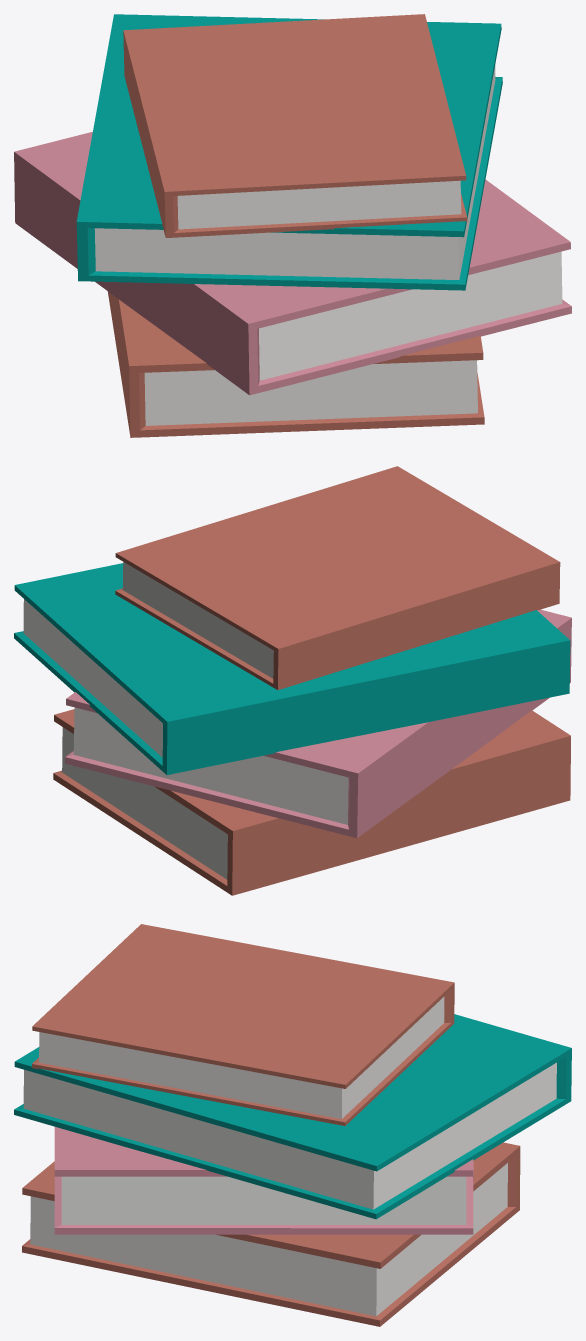
The model's file is Books.fbx.
3 views of the same model, one above another, from view 1: azimuth 30°, elevation 25°; view 2: azimuth 150°, elevation 25°; view 3: azimuth 270°, elevation 25° (orthographic). The views are drawn at different scales.
Visible parts, largest first — view 1: Books; view 2: Books; view 3: Books.
Boxes of the visible parts, x1,y1,x2,y2 form: Books: (14,14,571,437); Books: (14,466,571,895); Books: (14,924,571,1326).
Size of the model in its own units: 49.98 by 52.17 by 23.08.
